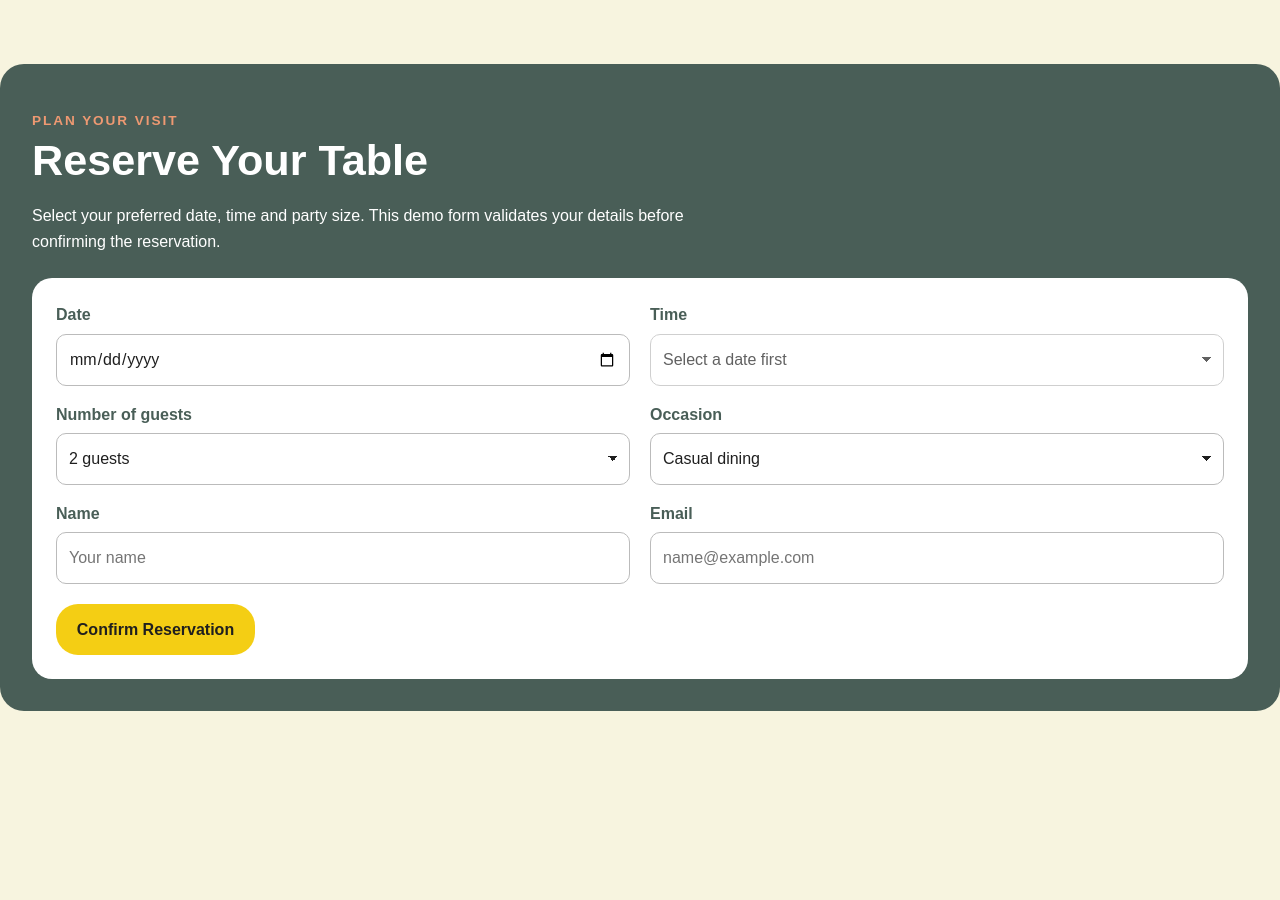
Test: ReservationSection › shows validation errors when the form is submitted empty
Click the button "Confirm Reservation": (156, 630) [56,604,255,655]
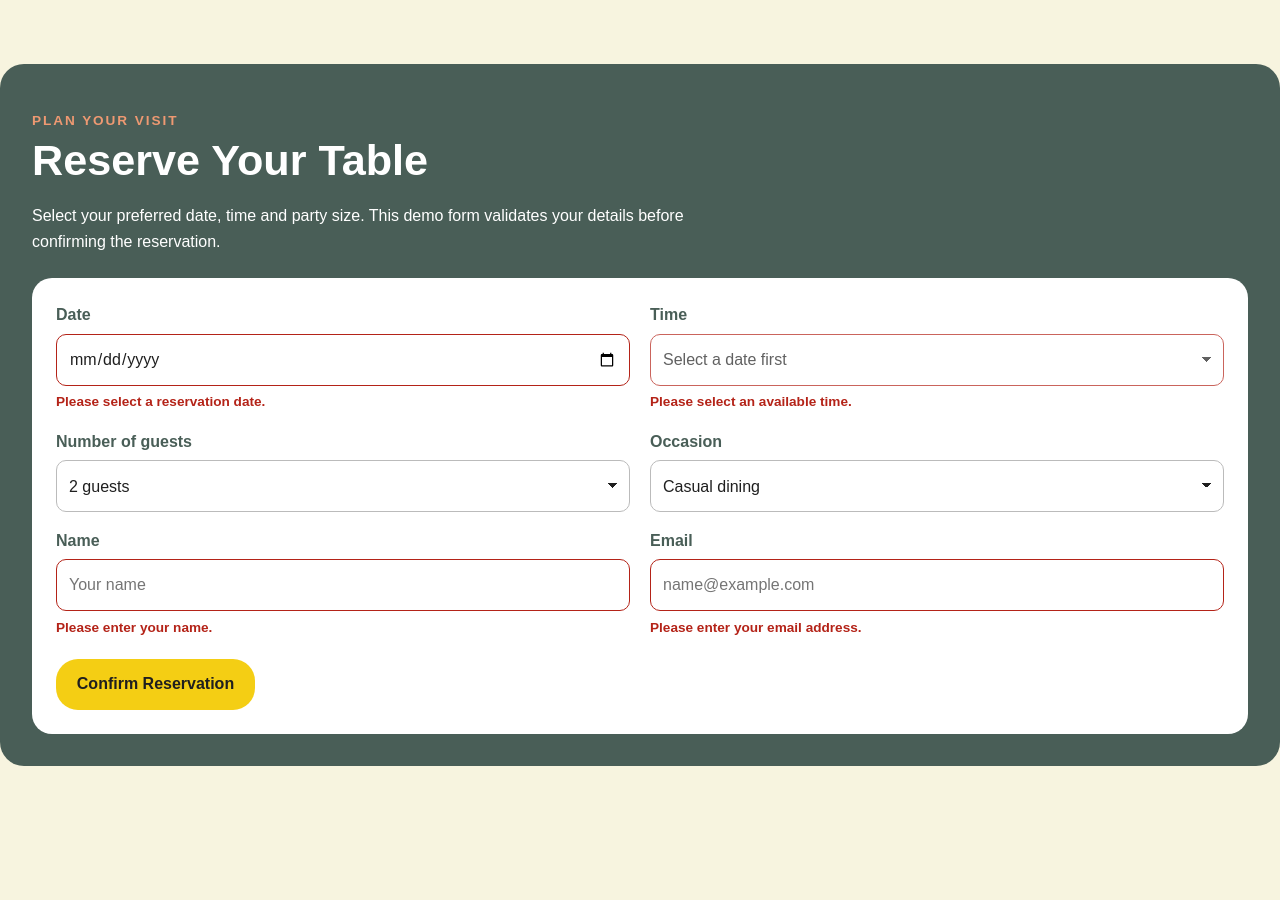
Result: the text "Please select a reservation date." is shown at [56,394,265,409]
Result: the text "Please select an available time." is shown at [650,394,852,409]
Result: the text "Please enter your name." is shown at [56,620,212,635]
